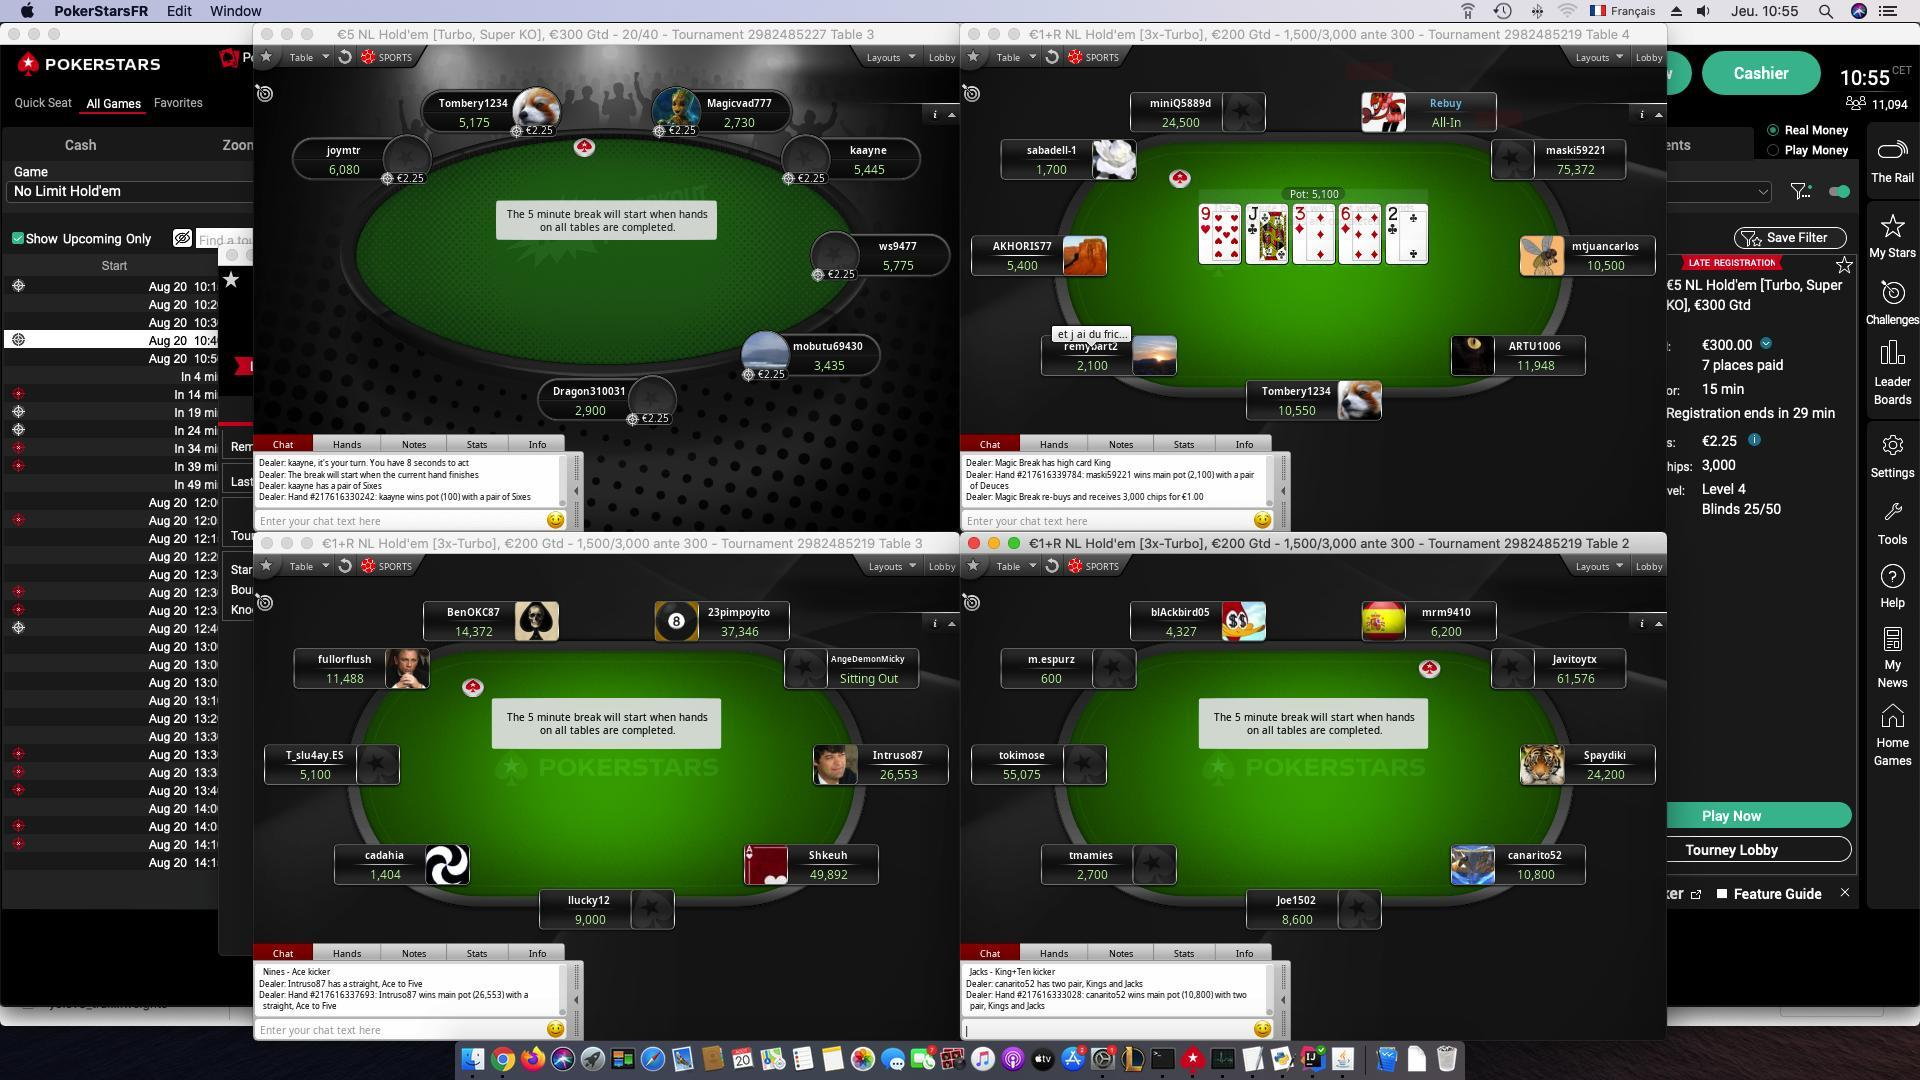2C: (1385, 203, 1400, 233)
3D: (1292, 200, 1305, 233)
6D: (1336, 200, 1356, 235)
9H: (1193, 203, 1212, 237)
JC: (1244, 200, 1261, 233)
